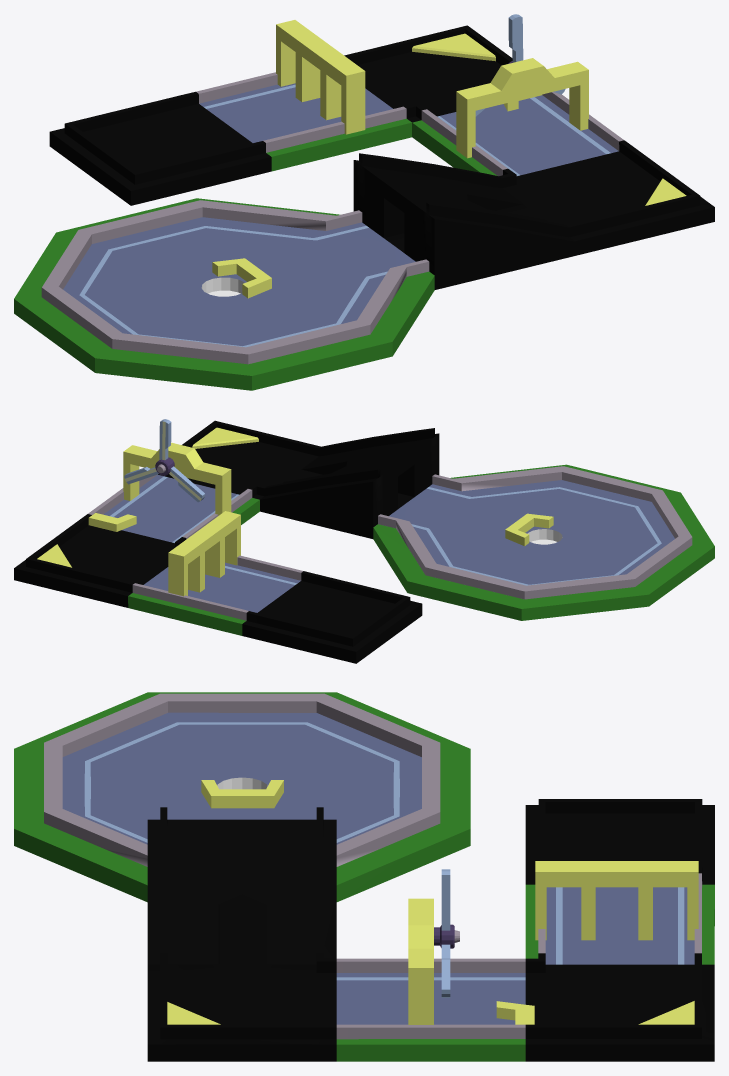
Rendered from Pista1Dificil.fbx.
3 views of the same model, one above another, from view 1: azimuth 30°, elevation 25°; view 2: azimuth 150°, elevation 25°; view 3: azimuth 270°, elevation 25° (orthographic). The views are drawn at different scales.
Parts seen in each view (by area): view 1: Cylinder007, Cylinder007.001, Cylinder007.002, Box027, Box028, Object001, Box022.001, Cylinder011; view 2: Cylinder007, Cylinder007.001, Cylinder007.002, Box027, Box028, Cylinder011, Box022.001, Object001.001, Box022; view 3: Cylinder007, Cylinder007.001, Cylinder007.002, Box027, Box028, Box022.001, Cylinder011, Box022, Object001, Object001.001.
Boxes of the visible parts, left/top/right/bottom form: Cylinder007: left=14, top=52, right=714, bottom=390; Cylinder007.001: left=64, top=25, right=700, bottom=237; Cylinder007.002: left=41, top=200, right=429, bottom=364; Box027: left=276, top=20, right=365, bottom=134; Box028: left=456, top=58, right=588, bottom=158; Object001: left=412, top=33, right=495, bottom=61; Box022.001: left=212, top=258, right=271, bottom=298; Cylinder011: left=475, top=14, right=565, bottom=116; Cylinder007: left=14, top=433, right=714, bottom=663; Cylinder007.001: left=26, top=420, right=434, bottom=646; Cylinder007.002: left=378, top=466, right=692, bottom=599; Box027: left=168, top=511, right=240, bottom=596; Box028: left=123, top=442, right=231, bottom=515; Cylinder011: left=124, top=419, right=205, bottom=502; Box022.001: left=505, top=513, right=553, bottom=546; Object001.001: left=192, top=427, right=258, bottom=448; Box022: left=88, top=513, right=136, bottom=531; Cylinder007: left=14, top=692, right=714, bottom=1061; Cylinder007.001: left=160, top=799, right=702, bottom=1039; Cylinder007.002: left=44, top=693, right=440, bottom=866; Box027: left=535, top=861, right=698, bottom=940; Box028: left=408, top=898, right=433, bottom=1024; Box022.001: left=201, top=780, right=283, bottom=808; Cylinder011: left=434, top=869, right=459, bottom=997; Box022: left=496, top=1001, right=534, bottom=1024; Object001: left=638, top=1001, right=694, bottom=1024; Object001.001: left=167, top=1002, right=220, bottom=1024.
Size of the model in its own units: 223 by 44.44 by 187.
